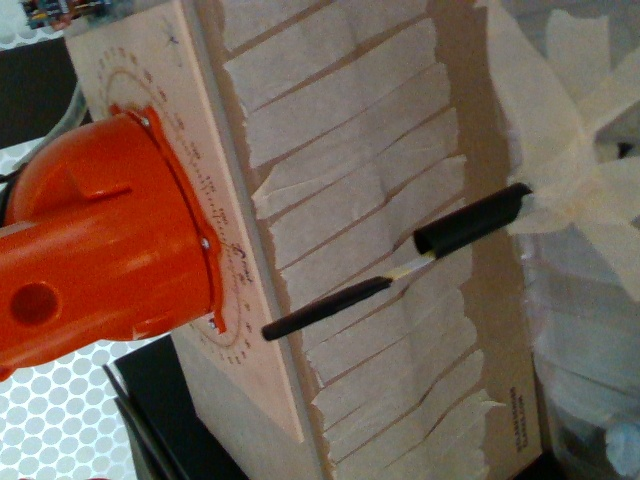test_strip: (260, 255, 438, 342)
